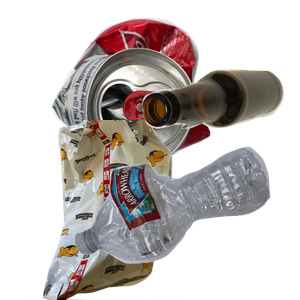glass: (140, 67, 300, 188)
metal: (48, 15, 251, 175)
plastic: (72, 144, 300, 300)
trash: (25, 120, 198, 300)
